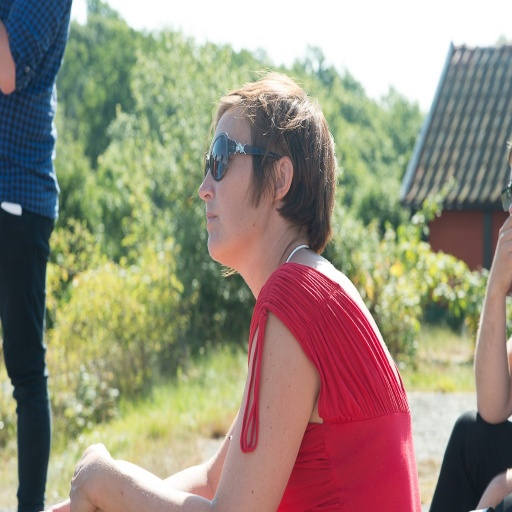hand: (67, 437, 112, 511), (493, 215, 511, 294)
